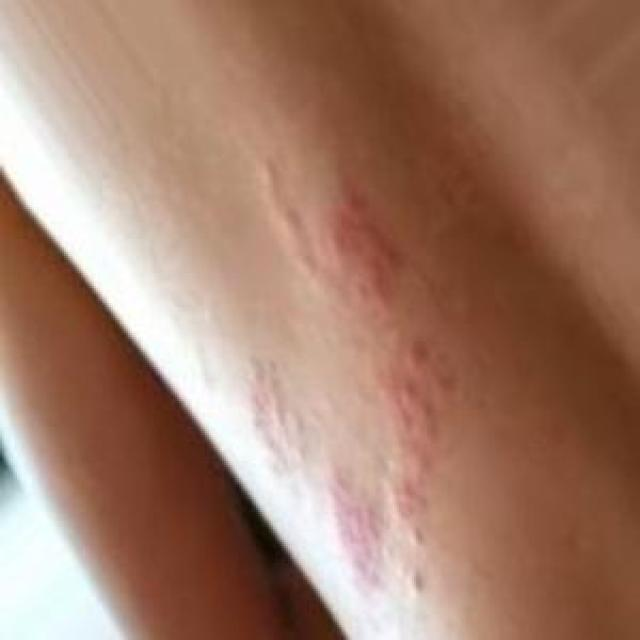Shingles: (244, 161, 456, 598)
